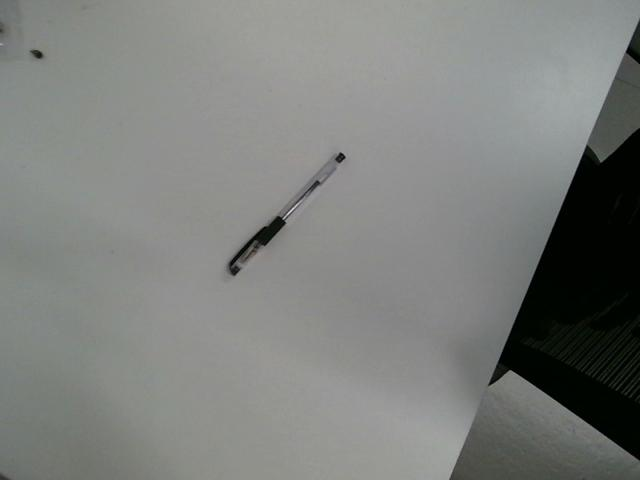pen: (226, 155, 345, 279)
